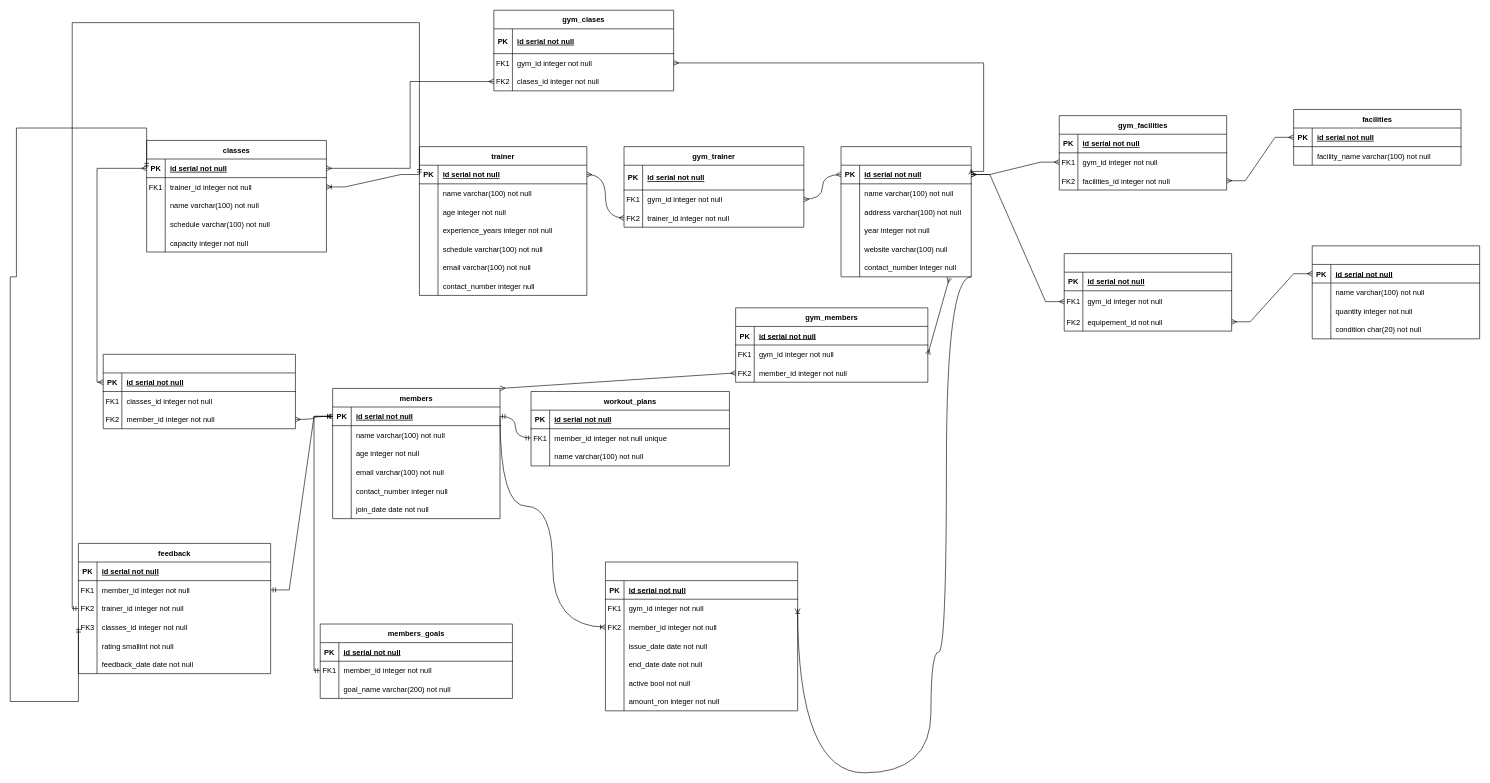
Some shapes in this 1490 by 783 pixel diagram are drawn without their labels. The box of each missing label's shape, as (x1, y1, x2, y2) in pixels:
equipment: (1312, 245, 1480, 339)
gym: (840, 146, 971, 277)
gym_equipment: (1064, 253, 1232, 331)
member_clases: (103, 354, 295, 429)
subscription: (605, 561, 798, 711)
